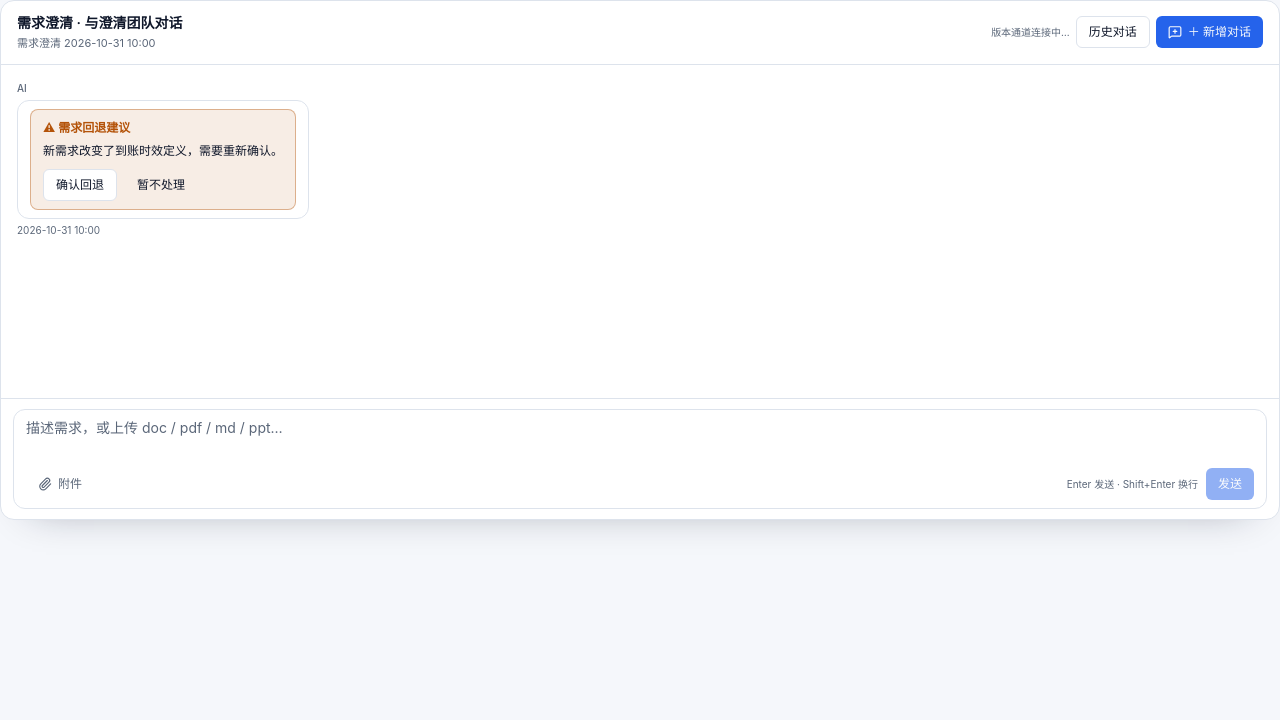
it: ChatPanel › shows an inline error when the rollback fails
Expected: the text "新需求改变了到账时效定义，需要重新确认。" is shown, [43, 141, 283, 160]
Step 1. Click the button "确认回退" → {"x": 80, "y": 184}, box [43, 168, 117, 200]
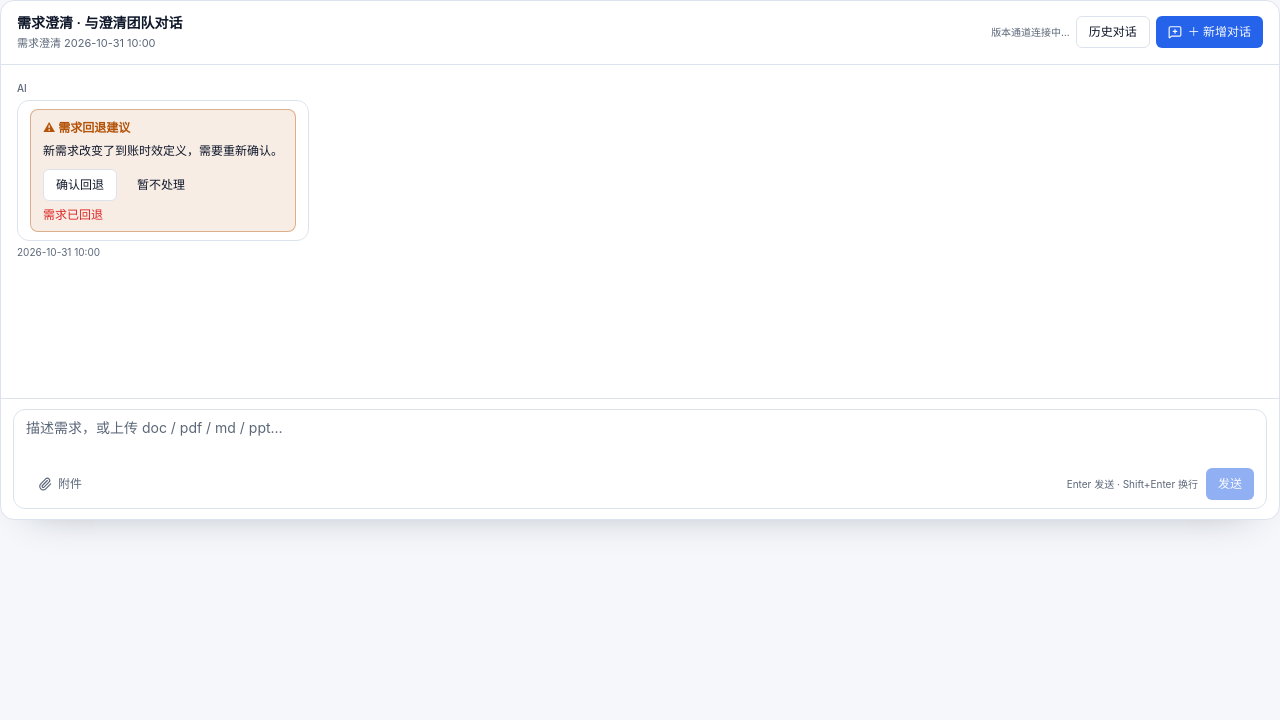
Expected: the text "需求已回退" is shown, [43, 206, 103, 222]
